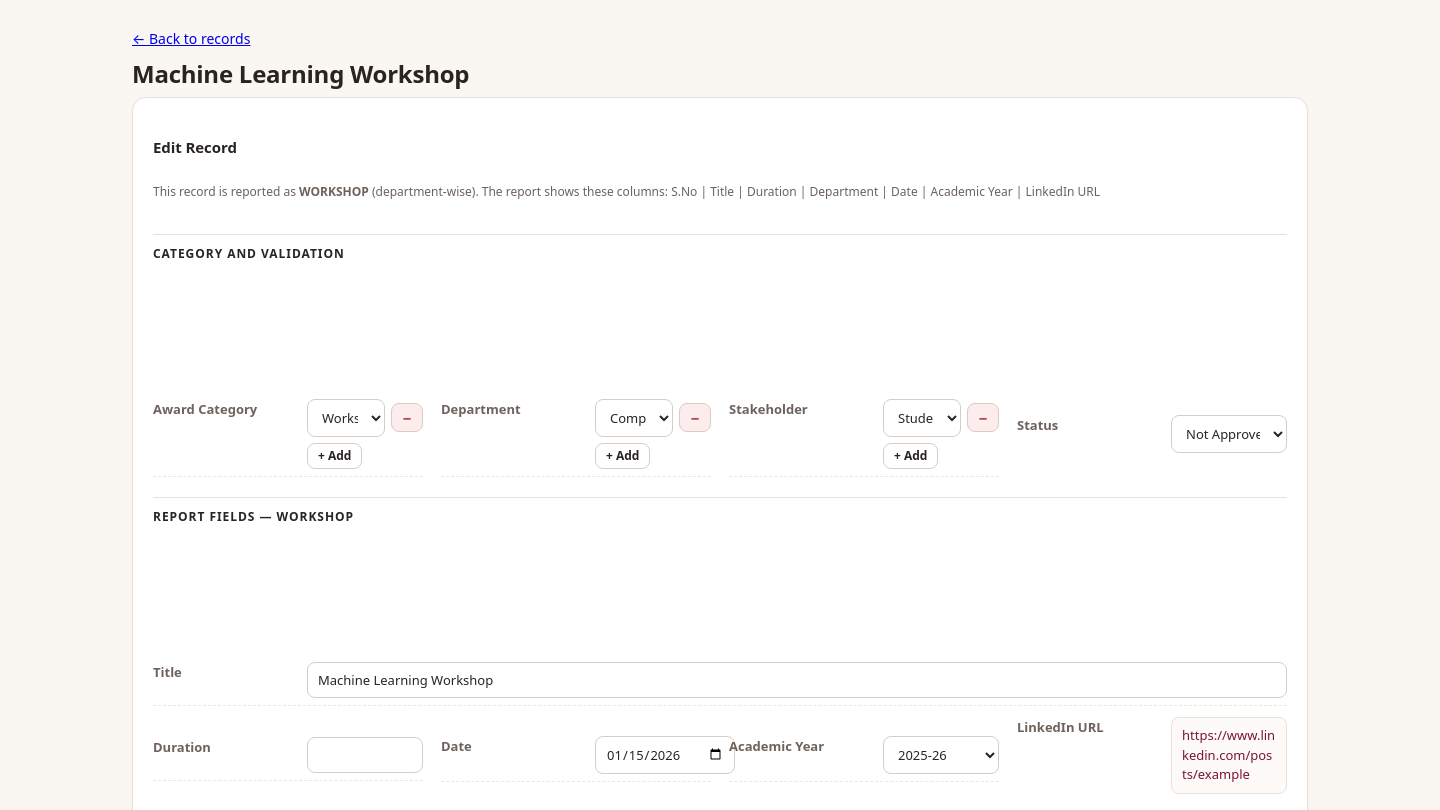
Test: LinkedIn Admin Record Detail › drops the Department column and reports the record as general once it has no department
This screenshot has width=1440, height=810.
Expected: the field labelled "Title" is shown, [307,662,1287,698]
Expected: the text "department-wise" is shown, [376,183,472,200]
Click the button named "Remove Department 1" at x=695, y=418, box [679,403,711,432]
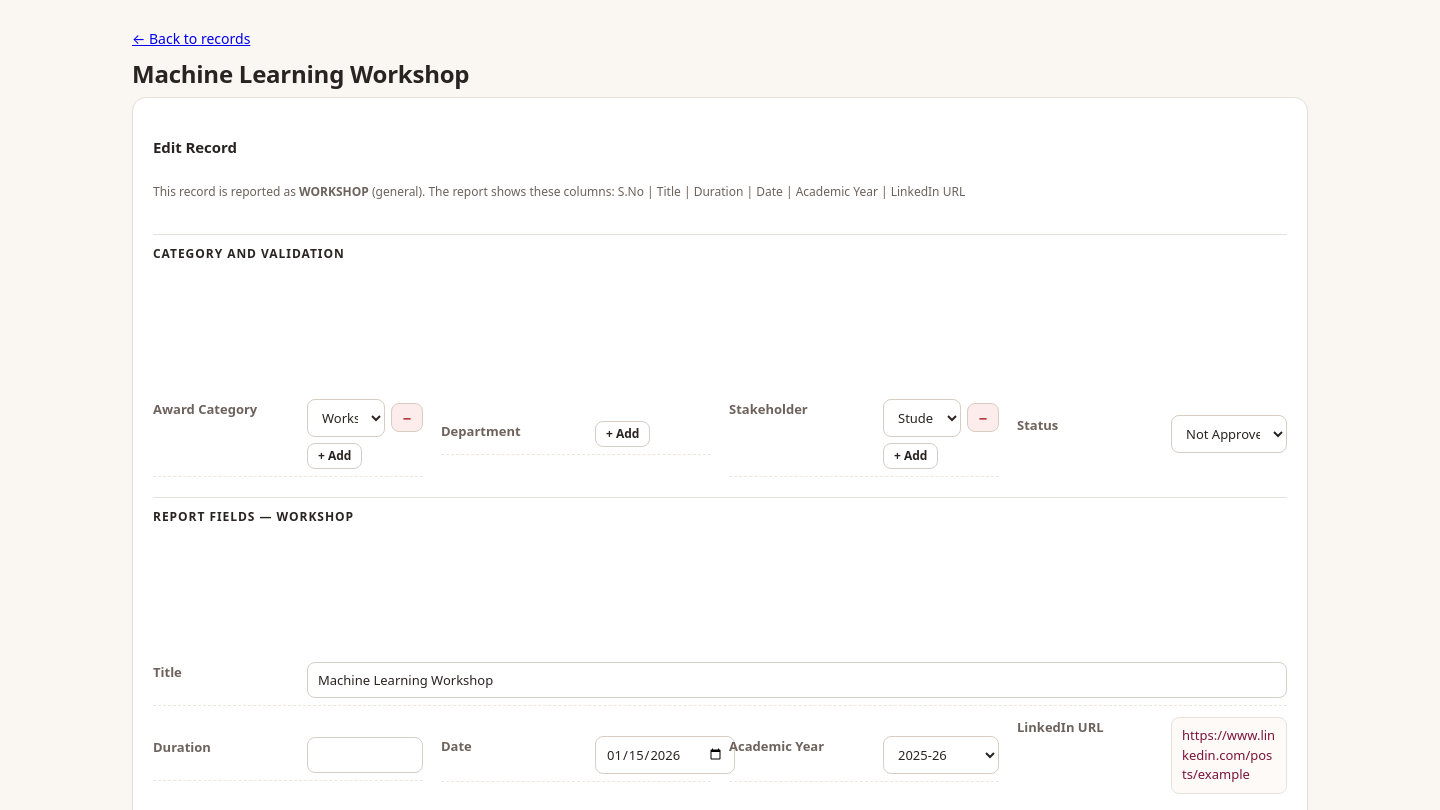
Result: the text "(general)" is shown at [153,183,965,200]
Result: the text "department-wise" is gone
